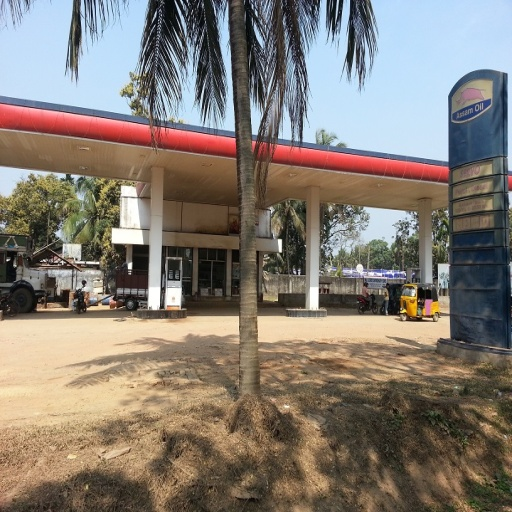roof: (3, 95, 508, 196)
